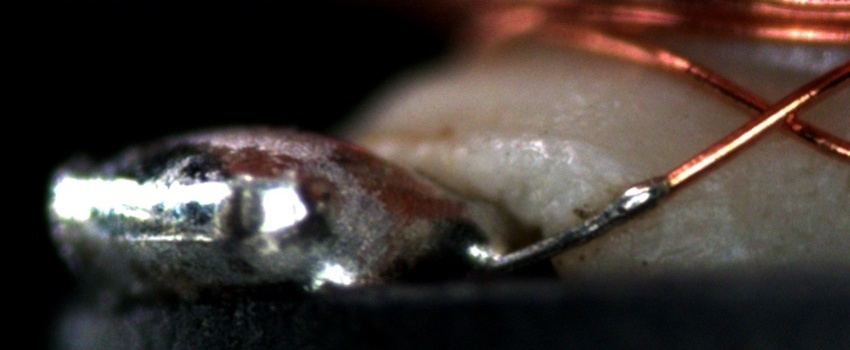CL: (732, 83, 821, 143)
DL: (459, 118, 639, 172)
TS: (471, 177, 670, 268)
TTCW: (458, 148, 712, 270)
